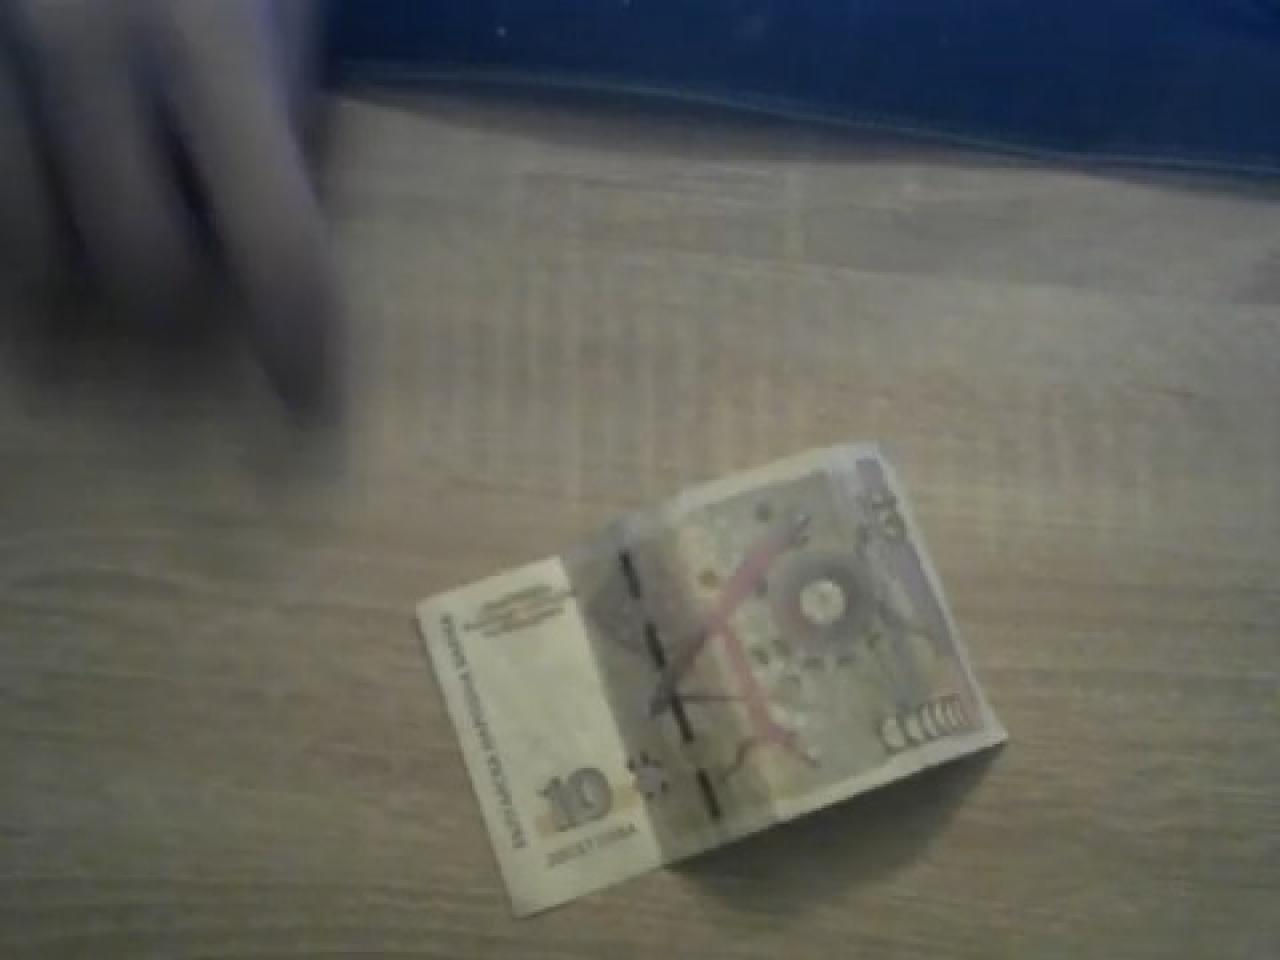10leva: (413, 443, 1011, 920)
